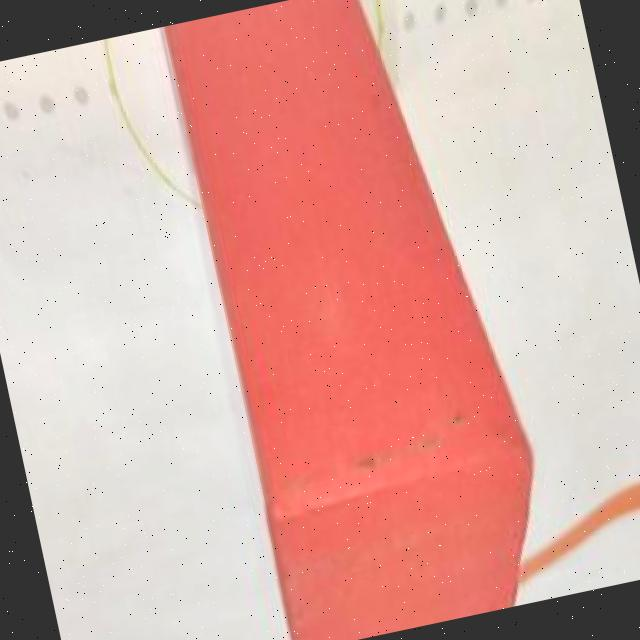redbox: (159, 0, 564, 640)
